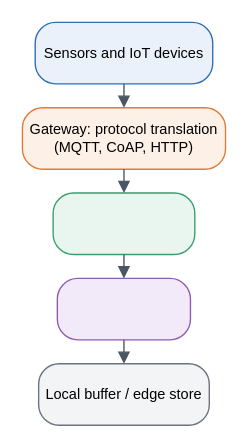
Image size: 248x448. Some labels were removed from this diagram. Each missing label, with the box of its shape:
Minimisation and pseudonymisation: (56, 277, 191, 340)
Quality checks and local filtering: (52, 192, 195, 255)
